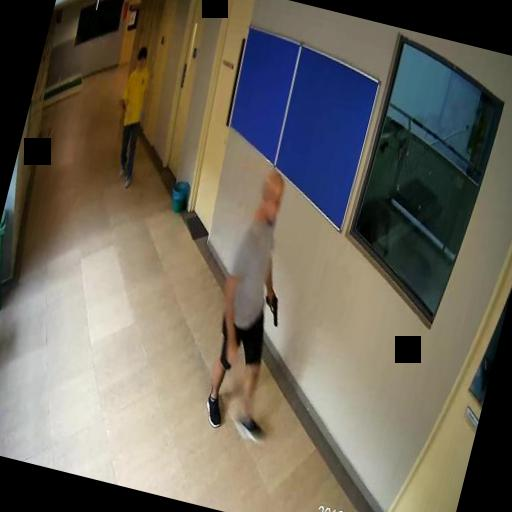Handgun: (260, 288, 284, 325)
